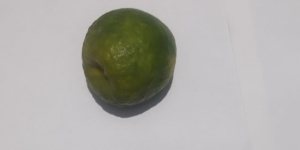BAD: (81, 6, 181, 111)
